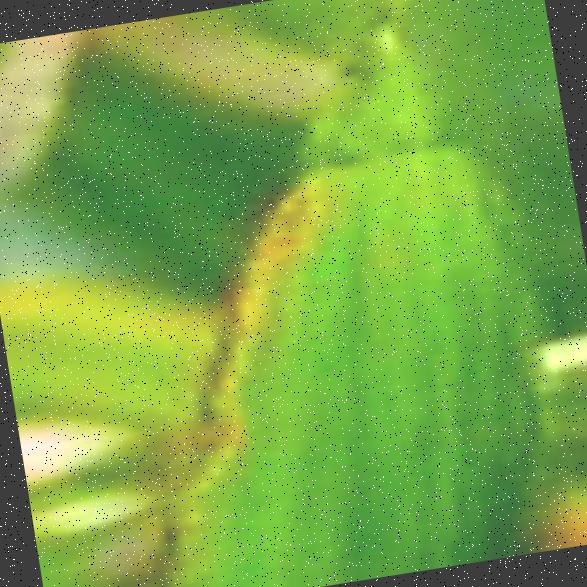Bacteria_Leaf_Blight: (41, 0, 502, 583)
